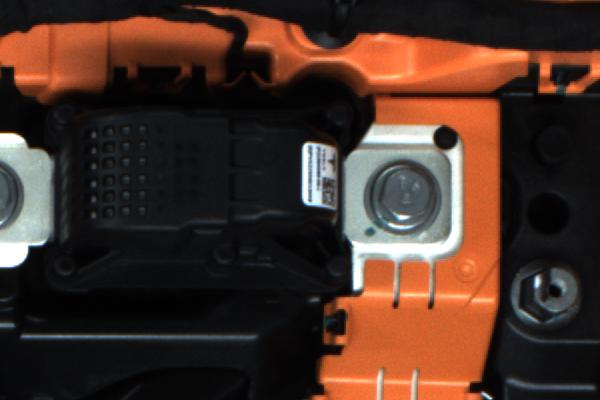nut_b: (360, 149, 461, 245)
